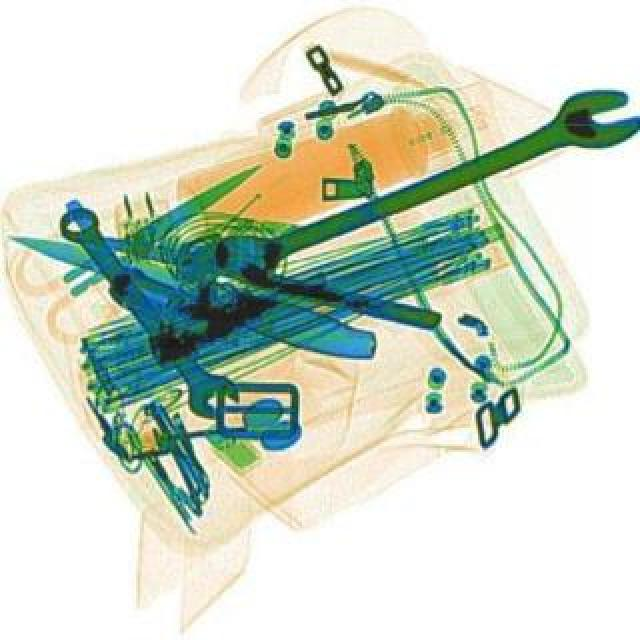gun: (102, 206, 332, 380)
knife: (0, 226, 380, 372), (60, 228, 444, 336), (56, 158, 268, 306)
scissors: (204, 84, 636, 300), (42, 202, 246, 432)
